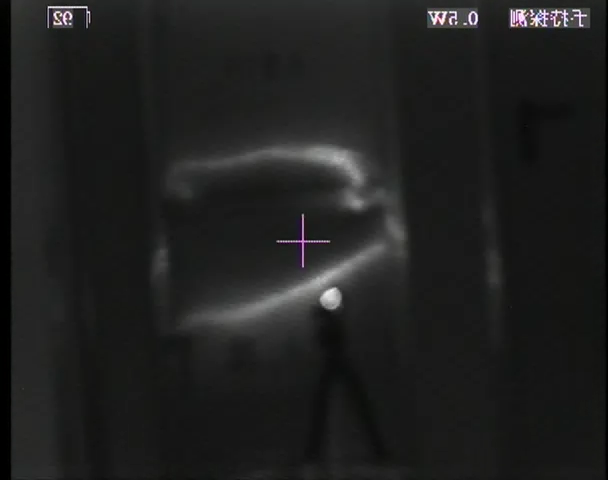my: (316, 284, 345, 312)
